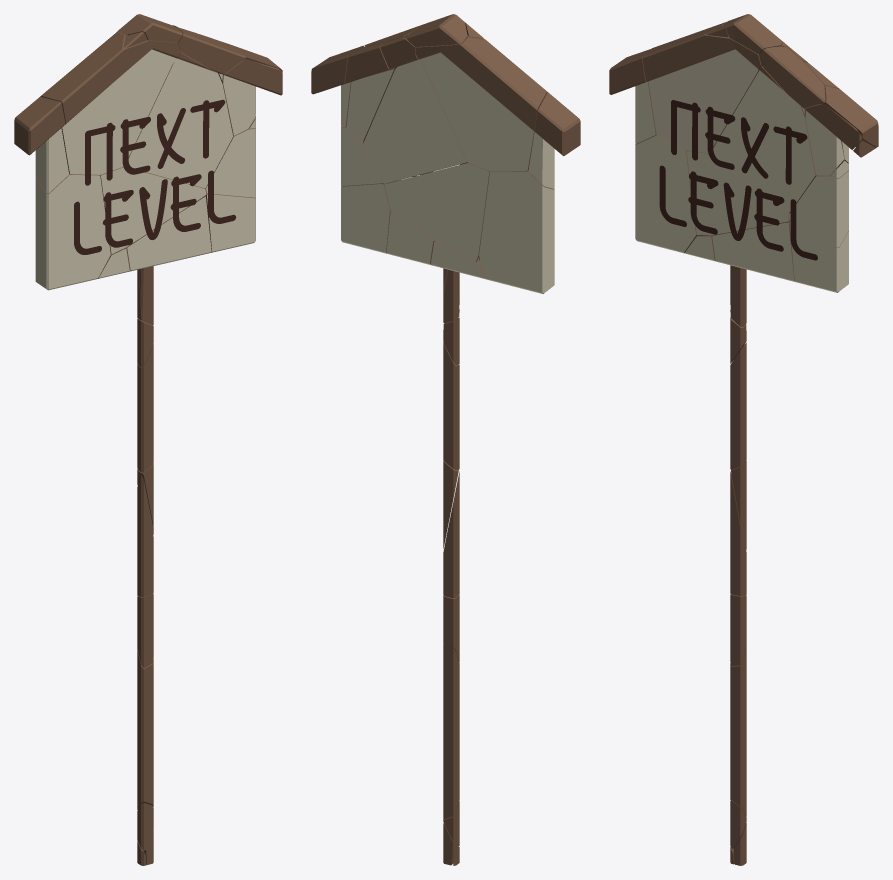
Rendered from bsign-nextlevel.fbx.
3 renders of one model, left to right at view 1: azimuth 30°, elevation 25°; view 2: azimuth 150°, elevation 25°; view 3: azimuth 330°, elevation 25°, orthographic.
Visible parts, largest first — view 1: sign_nextlevel01.006, sign_nextlevel01.002_cell.005, sign_nextlevel01.002_cell.012, sign_nextlevel01.005, sign_nextlevel01.002_cell.039, sign_nextlevel01.002_cell.002, sign_nextlevel01.009, sign_nextlevel01.002_cell.021, sign_nextlevel01.002_cell.007, sign_nextlevel01.002_cell.026, sign_nextlevel01.002_cell.035, sign_nextlevel01.002_cell.022 (+6 smaller); view 2: sign_nextlevel01.006, sign_nextlevel01.002_cell.012, sign_nextlevel01.002_cell.005, sign_nextlevel01.005, sign_nextlevel01.009, sign_nextlevel01.002_cell.008, sign_nextlevel01.002_cell.002, sign_nextlevel01.002_cell.007, sign_nextlevel01.002_cell.035, sign_nextlevel01.002_cell.039, sign_nextlevel01.002_cell.038, sign_nextlevel01.002_cell.026 (+7 smaller); view 3: sign_nextlevel01.006, sign_nextlevel01.002_cell.005, sign_nextlevel01.002_cell.012, sign_nextlevel01.005, sign_nextlevel01.002_cell.039, sign_nextlevel01.009, sign_nextlevel01.002_cell.026, sign_nextlevel01.002_cell.021, sign_nextlevel01.002_cell.007, sign_nextlevel01.002_cell.020, sign_nextlevel01.002_cell.002, sign_nextlevel01.002_cell.035 (+7 smaller).
Part boxes in pixels (<box>): sign_nextlevel01.006: <box>40,31,180,185</box>; sign_nextlevel01.002_cell.005: <box>120,50,233,188</box>; sign_nextlevel01.002_cell.012: <box>35,173,110,290</box>; sign_nextlevel01.005: <box>100,167,206,254</box>; sign_nextlevel01.002_cell.039: <box>127,196,211,324</box>; sign_nextlevel01.002_cell.002: <box>14,96,69,193</box>; sign_nextlevel01.009: <box>202,170,255,252</box>; sign_nextlevel01.002_cell.021: <box>223,59,282,135</box>; sign_nextlevel01.002_cell.007: <box>137,649,153,809</box>; sign_nextlevel01.002_cell.026: <box>205,127,255,197</box>; sign_nextlevel01.002_cell.035: <box>137,344,153,472</box>; sign_nextlevel01.002_cell.022: <box>137,475,153,596</box>; sign_nextlevel01.006: <box>415,35,547,170</box>; sign_nextlevel01.002_cell.012: <box>479,170,554,293</box>; sign_nextlevel01.002_cell.005: <box>363,46,467,183</box>; sign_nextlevel01.005: <box>384,162,491,261</box>; sign_nextlevel01.009: <box>341,184,390,253</box>; sign_nextlevel01.002_cell.008: <box>345,42,394,142</box>; sign_nextlevel01.002_cell.002: <box>528,92,580,188</box>; sign_nextlevel01.002_cell.007: <box>443,643,459,818</box>; sign_nextlevel01.002_cell.035: <box>443,342,459,469</box>; sign_nextlevel01.002_cell.039: <box>386,211,459,315</box>; sign_nextlevel01.002_cell.038: <box>431,241,487,323</box>; sign_nextlevel01.002_cell.026: <box>341,127,400,186</box>; sign_nextlevel01.006: <box>642,22,761,160</box>; sign_nextlevel01.002_cell.005: <box>705,66,816,214</box>; sign_nextlevel01.002_cell.012: <box>635,134,707,253</box>; sign_nextlevel01.005: <box>686,150,790,251</box>; sign_nextlevel01.002_cell.039: <box>712,222,794,327</box>; sign_nextlevel01.009: <box>789,199,848,292</box>; sign_nextlevel01.002_cell.026: <box>789,168,848,247</box>; sign_nextlevel01.002_cell.021: <box>804,103,862,175</box>; sign_nextlevel01.002_cell.007: <box>730,645,746,816</box>; sign_nextlevel01.002_cell.020: <box>759,46,825,107</box>; sign_nextlevel01.002_cell.002: <box>609,49,656,143</box>; sign_nextlevel01.002_cell.035: <box>730,342,746,469</box>.
Bounding box in the file's own units: 78.58 × 248 × 9.52.
